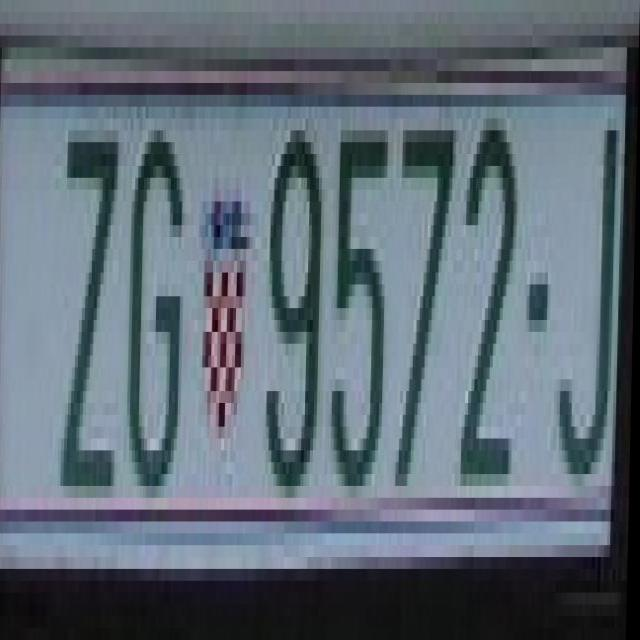2: (460, 106, 523, 486)
5: (327, 95, 395, 486)
7: (392, 107, 451, 474)
9: (261, 142, 324, 486)
G: (128, 106, 185, 486)
Z: (57, 107, 129, 474)
